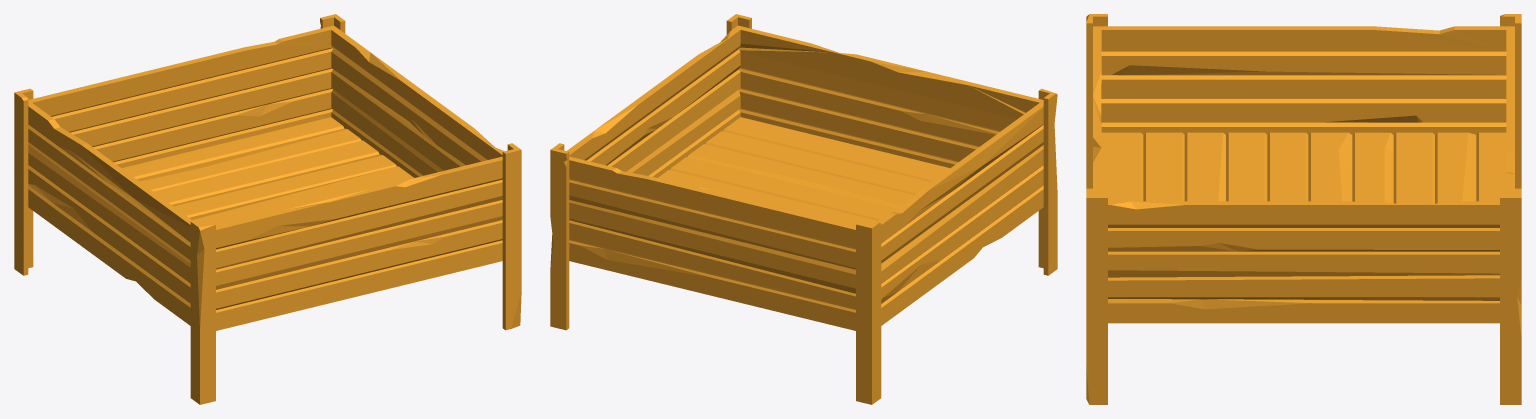
File: SM_Planter_Box_2x2m_A_Farm.fbx
3 renders of one model, left to right at view 1: azimuth 30°, elevation 25°; view 2: azimuth 150°, elevation 25°; view 3: azimuth 270°, elevation 25°, orthographic. The views are drawn at different scales.
Visible parts, largest first — view 1: planter-box-2x2m-a-farm; view 2: planter-box-2x2m-a-farm; view 3: planter-box-2x2m-a-farm.
Part boxes in pixels (box(x1,y1,x2,y2)): planter-box-2x2m-a-farm: box(14, 14, 521, 404); planter-box-2x2m-a-farm: box(550, 14, 1057, 404); planter-box-2x2m-a-farm: box(1086, 14, 1521, 404).
Bounding box in the file's own units: 2 × 1.05 × 2.
